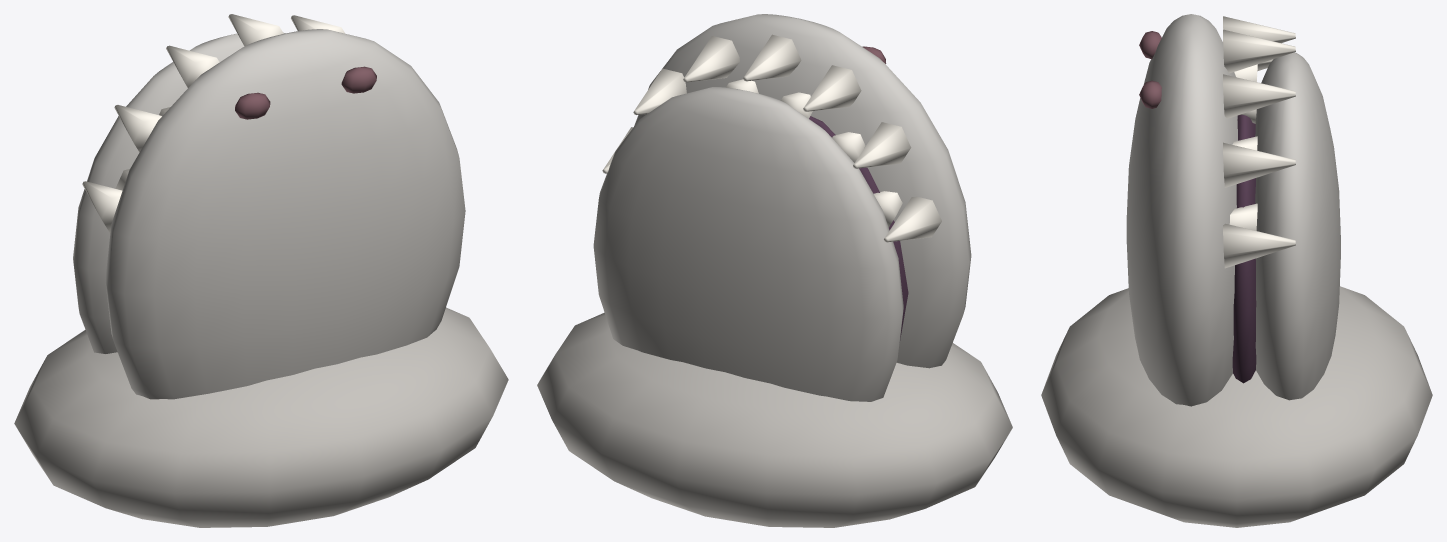
File: part_mouth_snapper.glb
3 renders of one model, left to right at view 1: azimuth 30°, elevation 25°; view 2: azimuth 150°, elevation 25°; view 3: azimuth 270°, elevation 25°, orthographic. The views are drawn at different scales.
Visible parts, largest first — view 1: part_mouth_snapper_painted_mesh, jaw.001_painted_mesh; view 2: part_mouth_snapper_painted_mesh, jaw.001_painted_mesh; view 3: part_mouth_snapper_painted_mesh, jaw.001_painted_mesh.
Part boxes in pixels (box(x1,y1,x2,y2)): part_mouth_snapper_painted_mesh: box(14, 14, 508, 527); jaw.001_painted_mesh: box(73, 32, 285, 353); part_mouth_snapper_painted_mesh: box(537, 14, 1012, 527); jaw.001_painted_mesh: box(593, 79, 903, 401); part_mouth_snapper_painted_mesh: box(1041, 14, 1432, 527); jaw.001_painted_mesh: box(1229, 52, 1340, 400).
Bounding box in the file's own units: 0.76 × 0.76 × 0.6.
